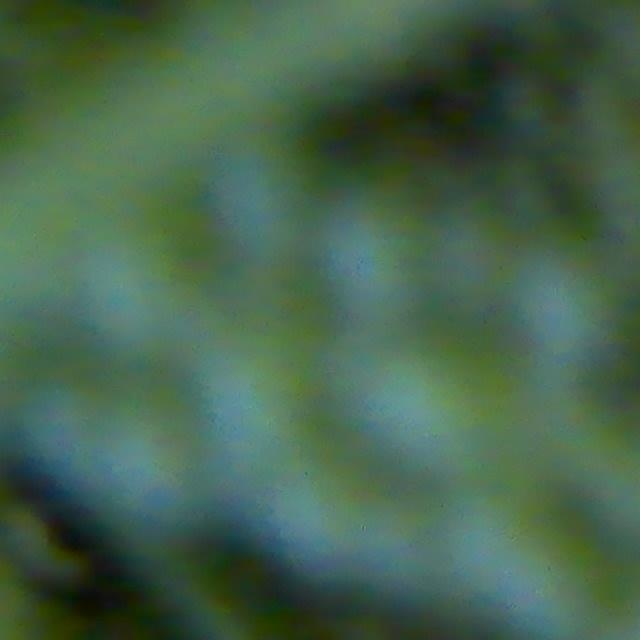SeaGrape: (69, 401, 222, 541), (399, 342, 546, 477), (246, 465, 393, 583), (469, 513, 593, 640), (305, 207, 411, 342), (511, 260, 617, 389), (205, 130, 276, 265)
